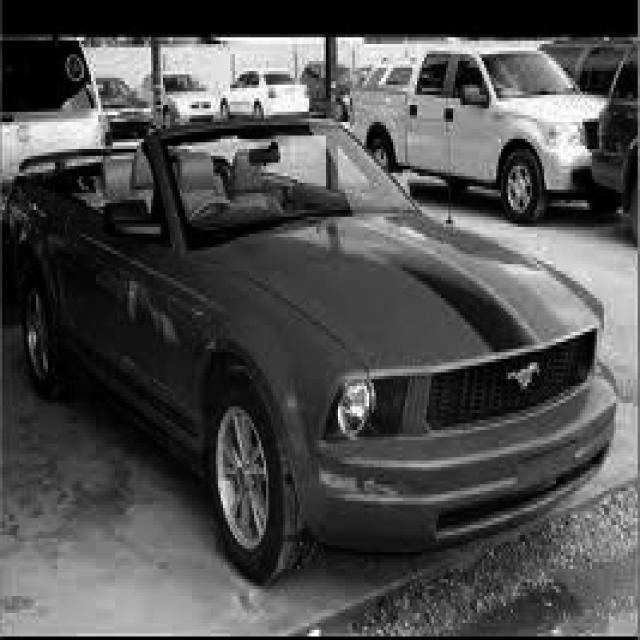car: (2, 112, 618, 586), (349, 46, 617, 226)
